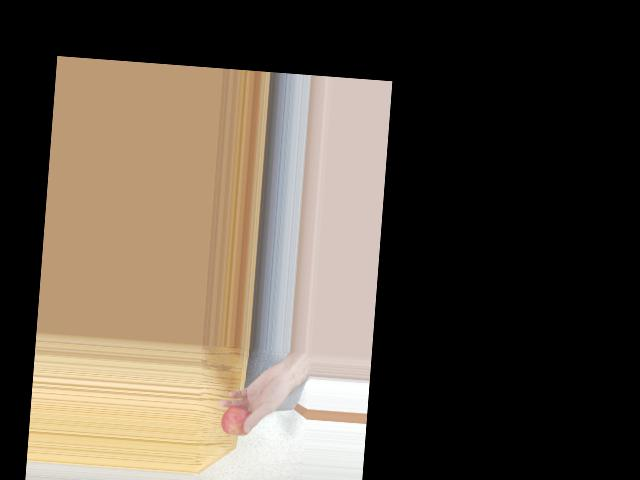apple: (220, 404, 255, 436)
